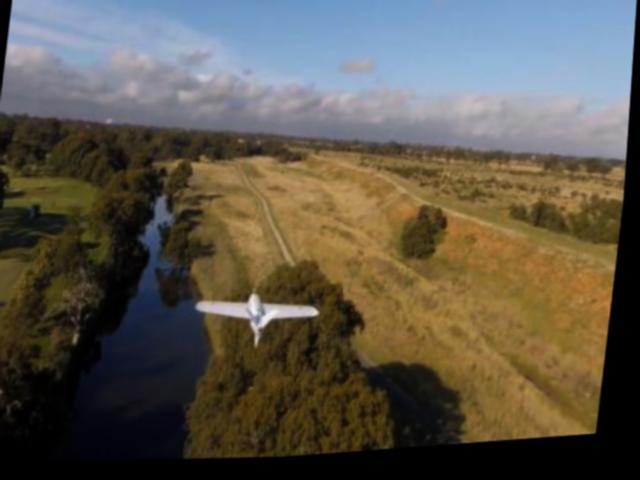uav: (193, 287, 328, 361)
